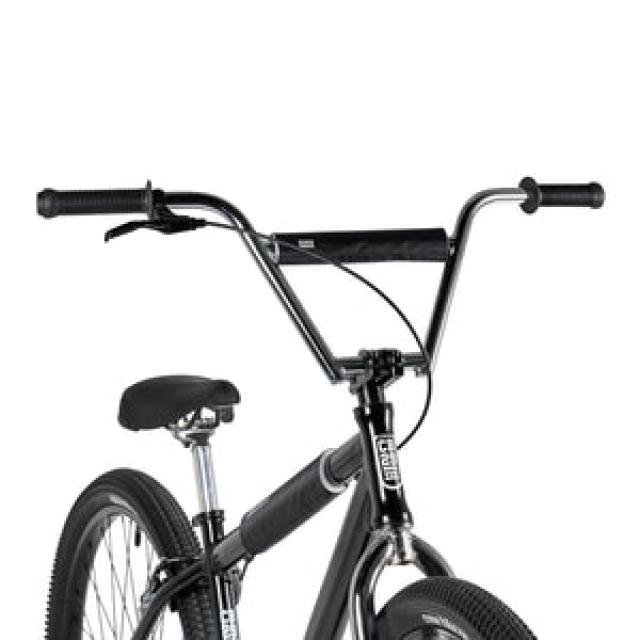bmx-bike: (30, 173, 608, 640)
